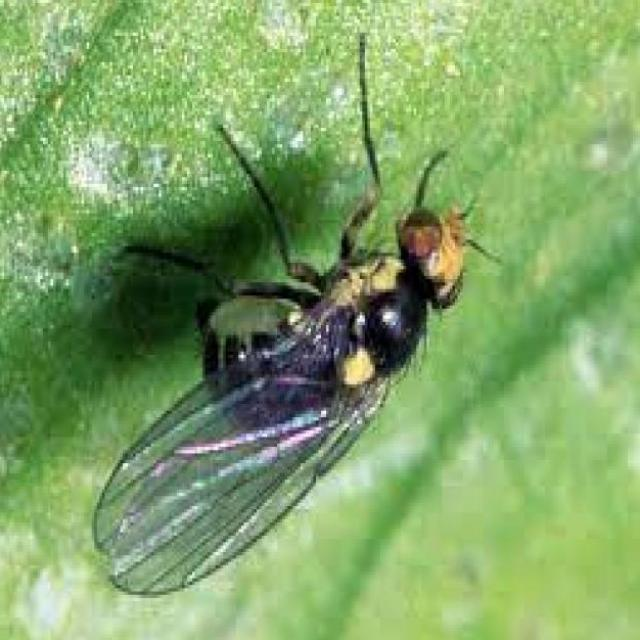Serpentine leafminer: (87, 30, 509, 608)
